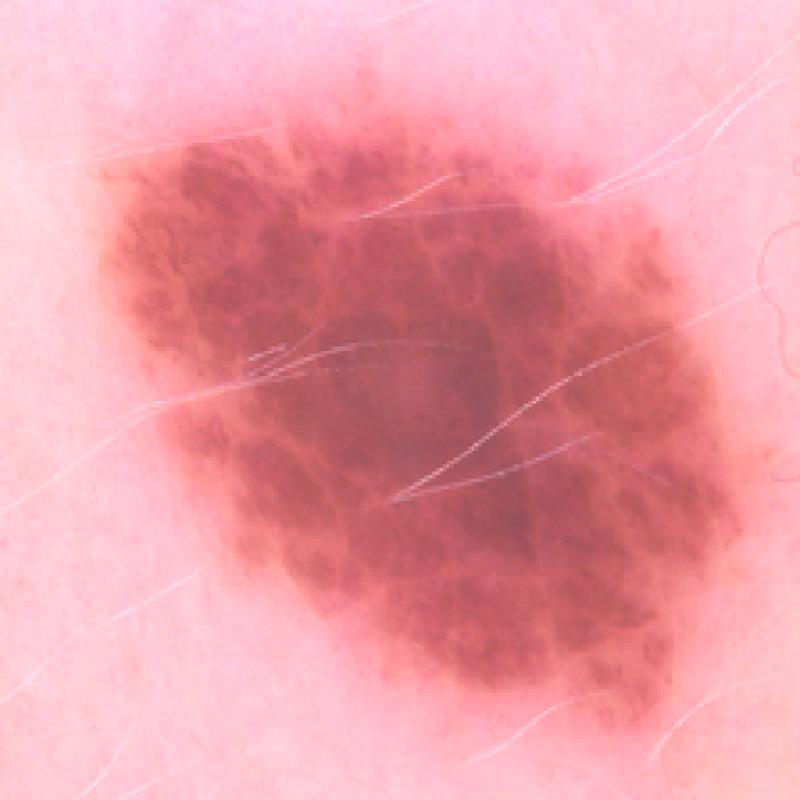benign: (57, 93, 764, 749)
